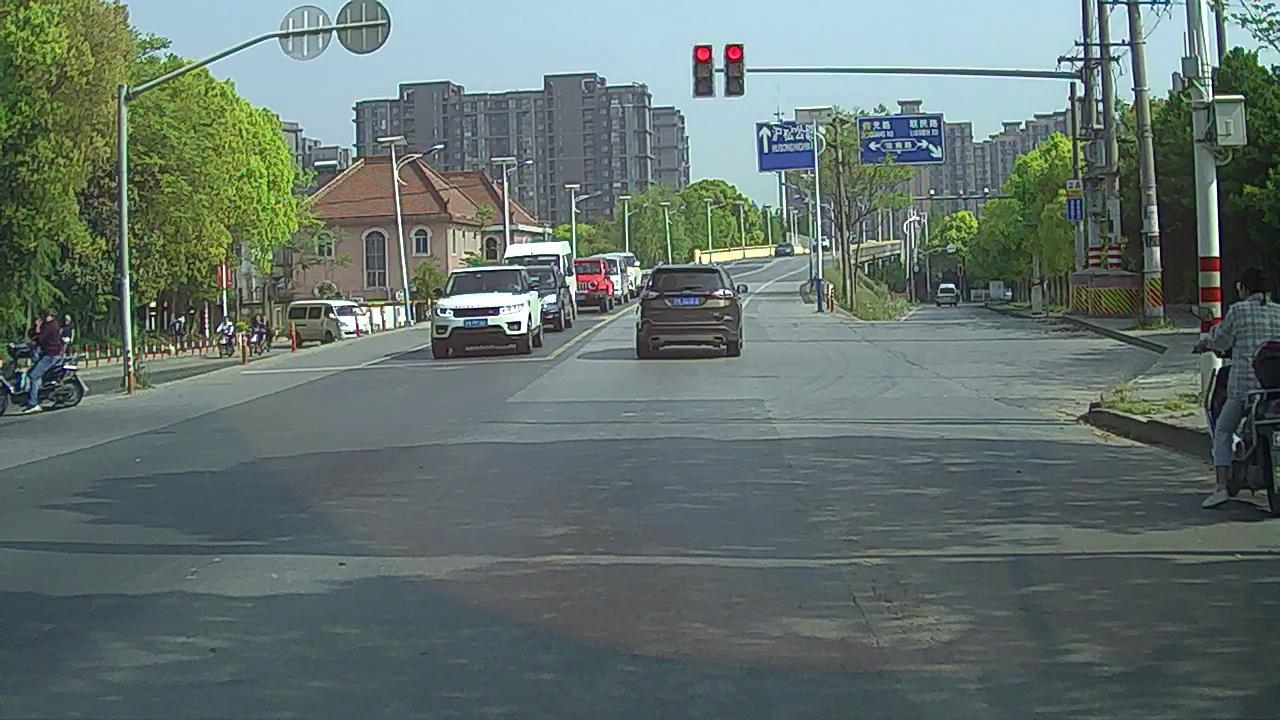traffic_light: (726, 43, 744, 96), (695, 44, 712, 97)
